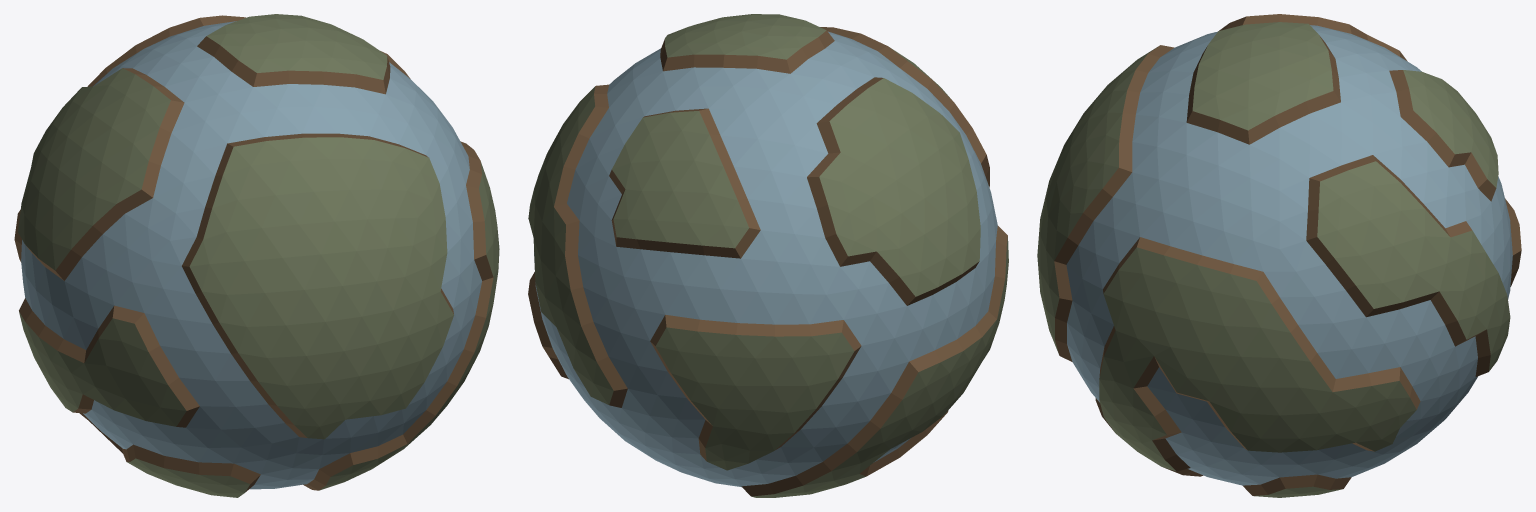
File: world-a.fbx
The picture shows the model from 3 angles, left to right: view 1: azimuth 30°, elevation 25°; view 2: azimuth 150°, elevation 25°; view 3: azimuth 270°, elevation 25°; orthographic projection.
Visible parts, largest first — view 1: Icosphere.003; view 2: Icosphere.003; view 3: Icosphere.003.
Part boxes in pixels (x1=…): Icosphere.003: x1=14, y1=14, x2=499, y2=497; Icosphere.003: x1=528, y1=14, x2=1008, y2=497; Icosphere.003: x1=1037, y1=14, x2=1521, y2=497.
Size of the model in its own units: 1030 by 1033 by 1039.
